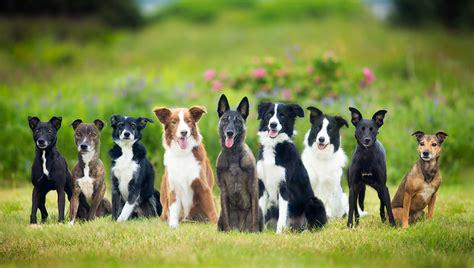dog: (257, 101, 326, 233), (153, 107, 218, 224), (215, 93, 264, 232), (388, 131, 448, 226), (109, 114, 160, 222), (348, 106, 394, 225), (301, 106, 348, 218), (28, 115, 71, 223), (69, 119, 112, 223)
